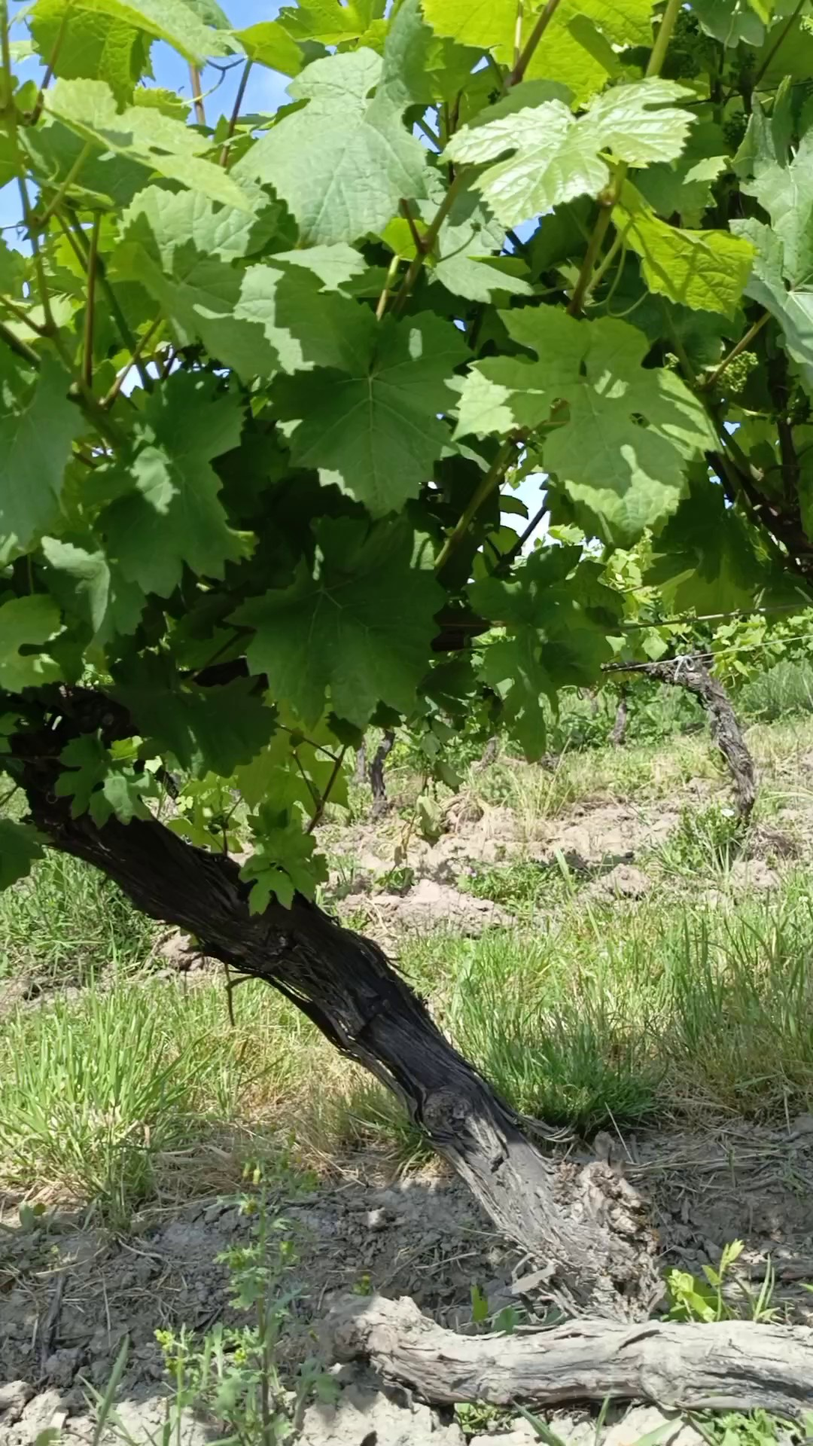vine_trunk: (15, 729, 627, 1289)
